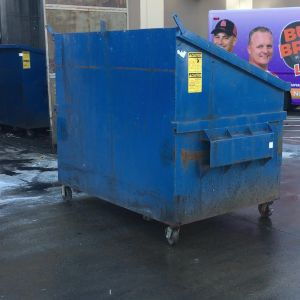Dumpster: (45, 18, 294, 249)
